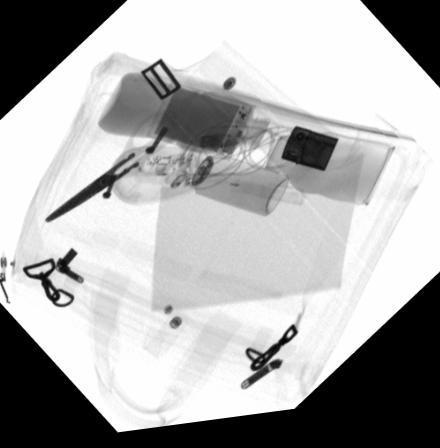Lighter: (278, 133, 338, 181)
Scissors: (40, 112, 190, 231), (143, 86, 259, 165)
Sprayer: (169, 150, 290, 224)
